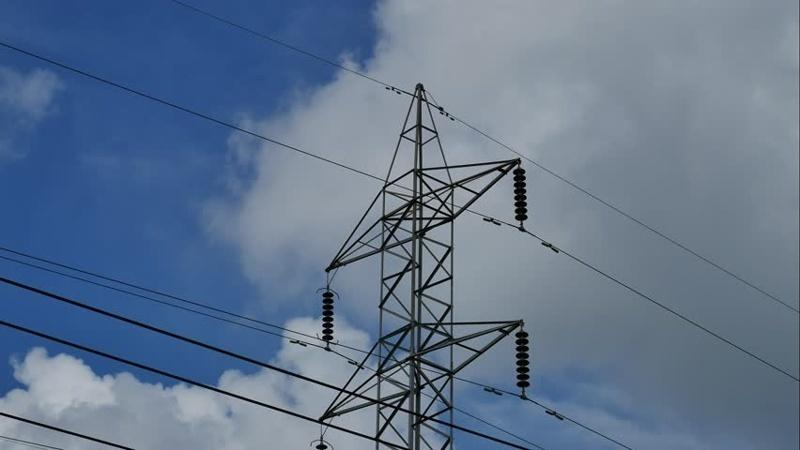power_tower: (311, 81, 532, 450)
